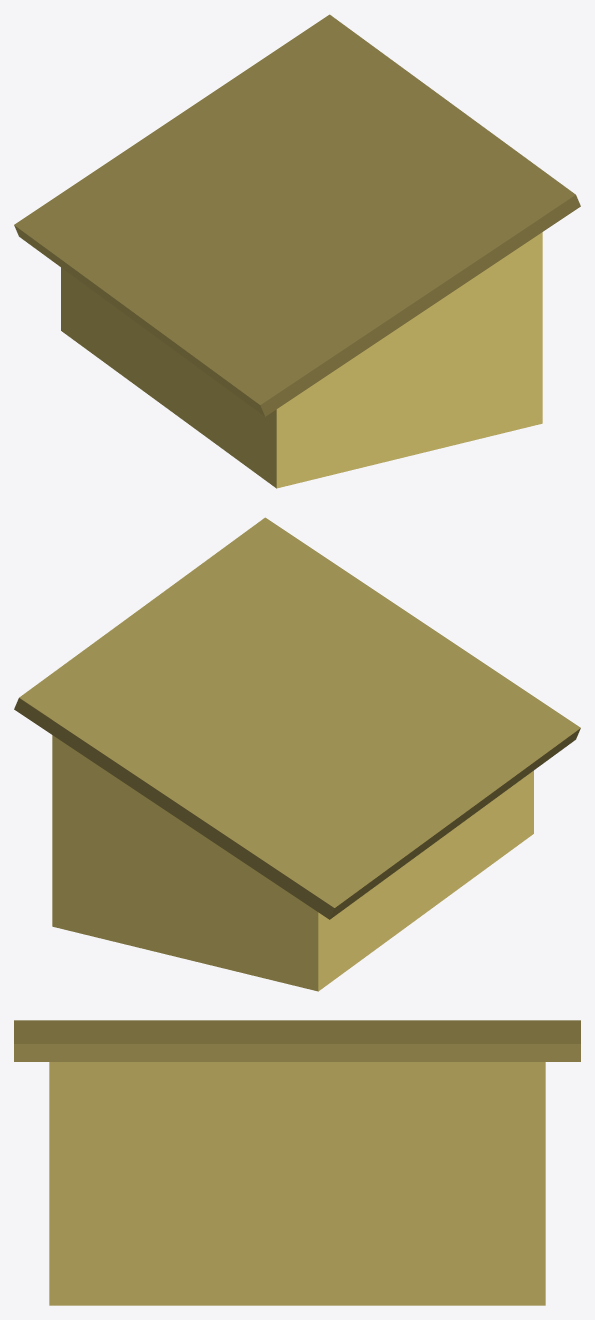
File: result.glb
3 renders of one model, top to bottom at view 1: azimuth 30°, elevation 25°; view 2: azimuth 150°, elevation 25°; view 3: azimuth 270°, elevation 25°, orthographic. The views are drawn at different scales.
Parts seen in each view (by area): view 1: baca292e-02b0-4ff6-94a6-89e3eebcc399__undefined, a08b45a6-5693-492e-af20-99dc206e6cb7__undefined; view 2: baca292e-02b0-4ff6-94a6-89e3eebcc399__undefined, a08b45a6-5693-492e-af20-99dc206e6cb7__undefined; view 3: a08b45a6-5693-492e-af20-99dc206e6cb7__undefined, baca292e-02b0-4ff6-94a6-89e3eebcc399__undefined.
Part boxes in pixels (x1,y1,x2,y2): baca292e-02b0-4ff6-94a6-89e3eebcc399__undefined: (14, 14, 580, 416); a08b45a6-5693-492e-af20-99dc206e6cb7__undefined: (61, 232, 542, 488); baca292e-02b0-4ff6-94a6-89e3eebcc399__undefined: (14, 517, 580, 919); a08b45a6-5693-492e-af20-99dc206e6cb7__undefined: (52, 735, 533, 991); a08b45a6-5693-492e-af20-99dc206e6cb7__undefined: (49, 1062, 545, 1305); baca292e-02b0-4ff6-94a6-89e3eebcc399__undefined: (14, 1020, 580, 1061).
Bounding box in the file's own units: 601 × 423 × 800.
